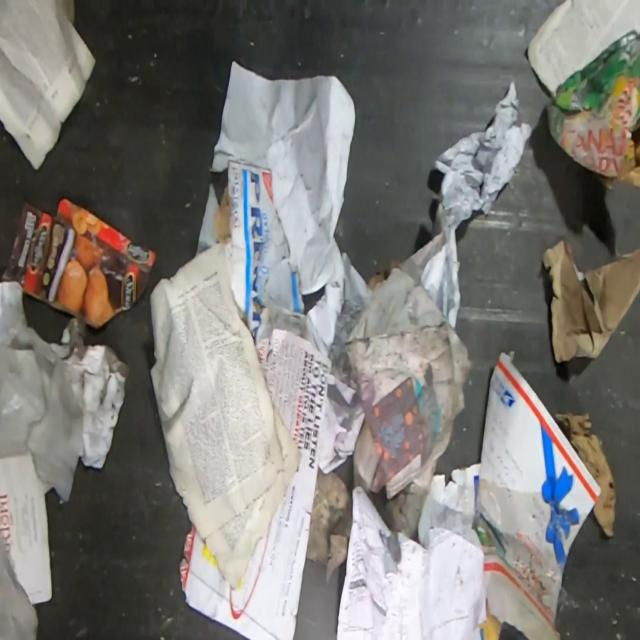cardboard: (473, 345, 602, 640), (0, 194, 156, 330), (207, 159, 305, 348), (549, 26, 639, 193), (555, 409, 617, 537)
